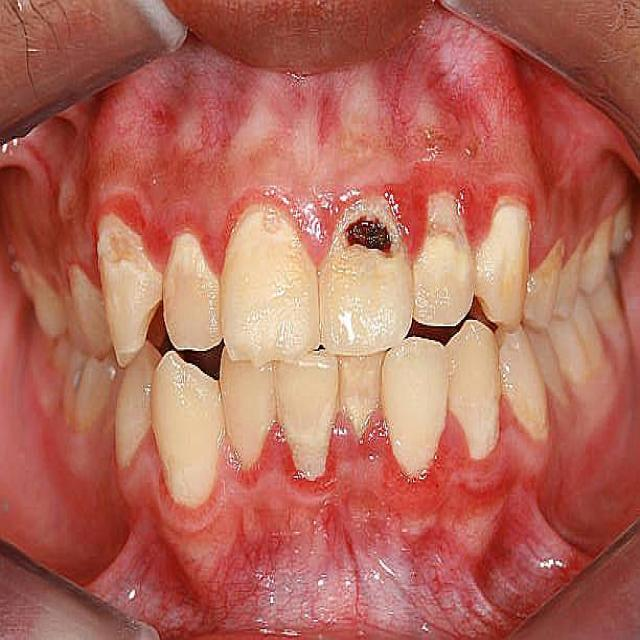redness: (117, 181, 180, 277), (389, 178, 433, 258), (297, 202, 338, 272), (461, 172, 492, 255), (440, 414, 477, 479), (196, 214, 231, 282), (262, 418, 298, 480), (329, 403, 359, 460)
